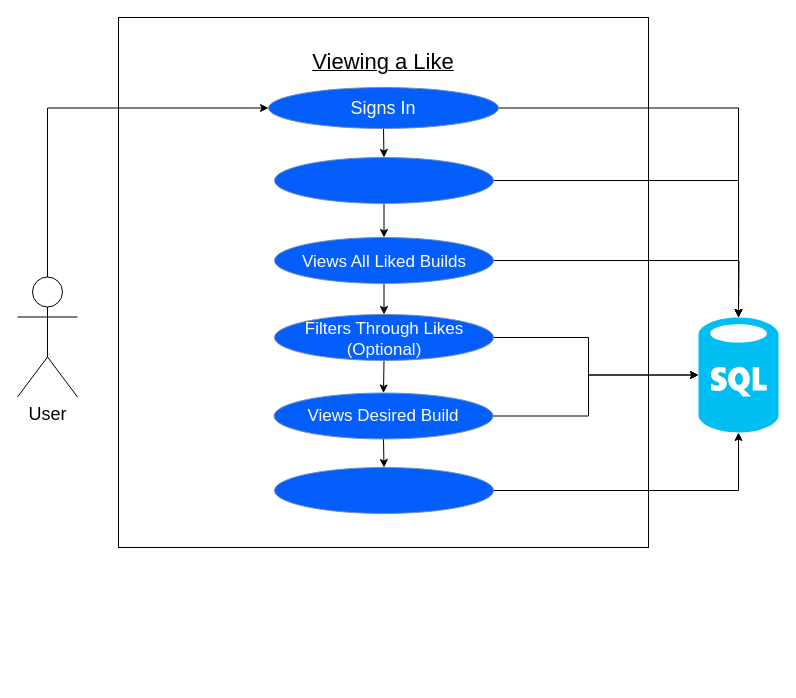
Some shapes in this 796 by 698 pixel diagram are drawn without their labels. The shapes that lost their labels are listed below. From the top down, each one's box as (x1, y1, x2, y2) in pixels, then its label:
(274, 156, 494, 204): Views Profile
(274, 466, 494, 514): Can Choose to Remove as a Like
